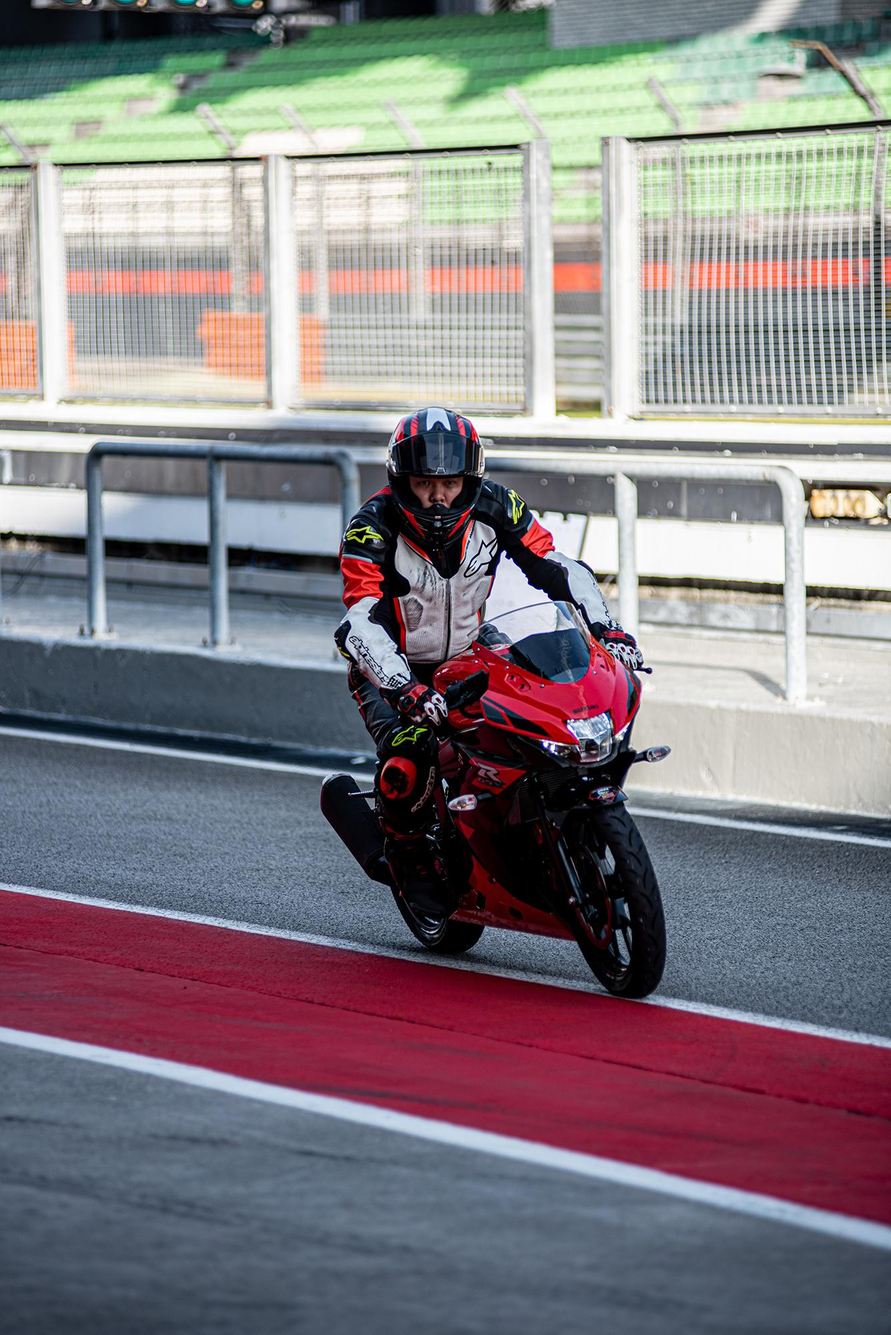helmet: (385, 405, 486, 553)
